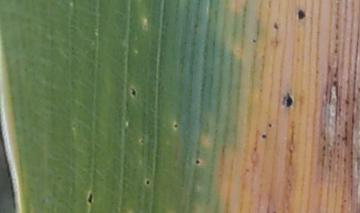tarspot: (281, 92, 293, 107), (298, 8, 306, 20), (87, 190, 93, 205), (129, 85, 137, 96), (272, 21, 280, 30), (343, 98, 351, 106), (331, 78, 338, 87), (194, 157, 201, 165), (260, 132, 268, 139), (266, 121, 273, 129), (139, 137, 146, 144), (145, 178, 151, 185), (251, 38, 258, 44), (173, 122, 178, 128)
